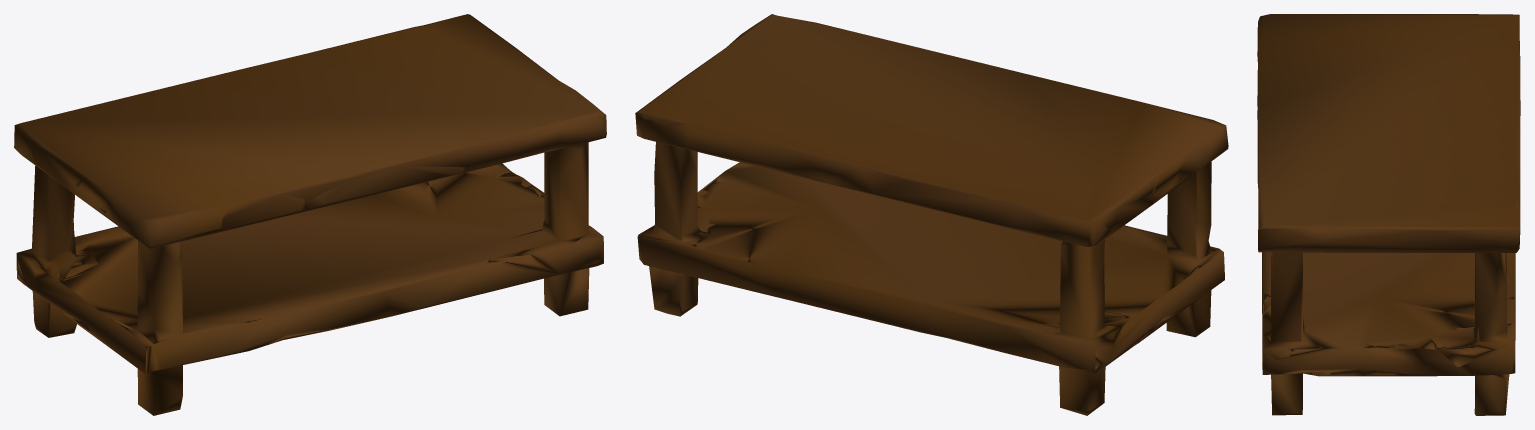
File: gen3d-coffee-table-lod1.glb
3 views of the same model, side by side, from view 1: azimuth 30°, elevation 25°; view 2: azimuth 150°, elevation 25°; view 3: azimuth 270°, elevation 25° (orthographic). The views are drawn at different scales.
Visible parts, largest first — view 1: part_0; view 2: part_0; view 3: part_0.
Part boxes in pixels (<box>): part_0: <box>14,14,606,415</box>; part_0: <box>635,14,1228,415</box>; part_0: <box>1257,14,1520,415</box>.
Bounding box in the file's own units: 2.36 × 0.9998 × 1.22.
